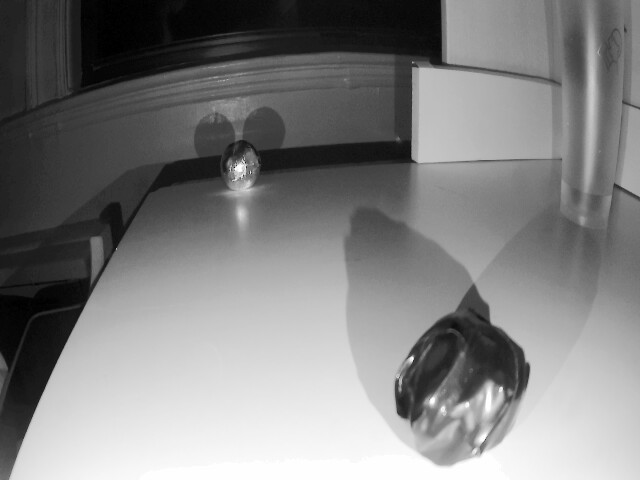black: (215, 136, 261, 200)
silver: (389, 314, 536, 467)
